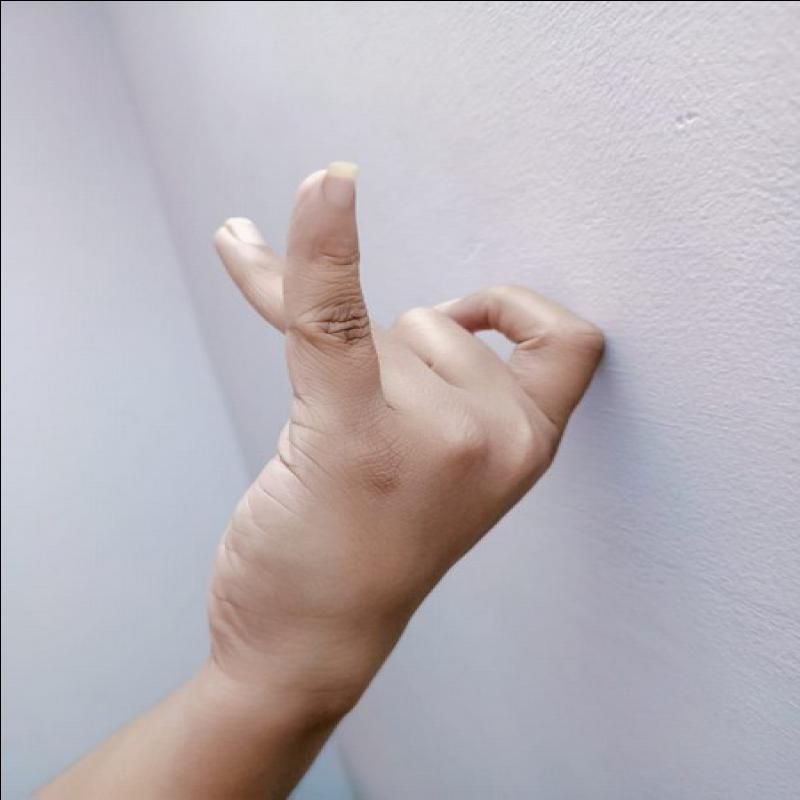Katakam: (171, 141, 619, 704)
